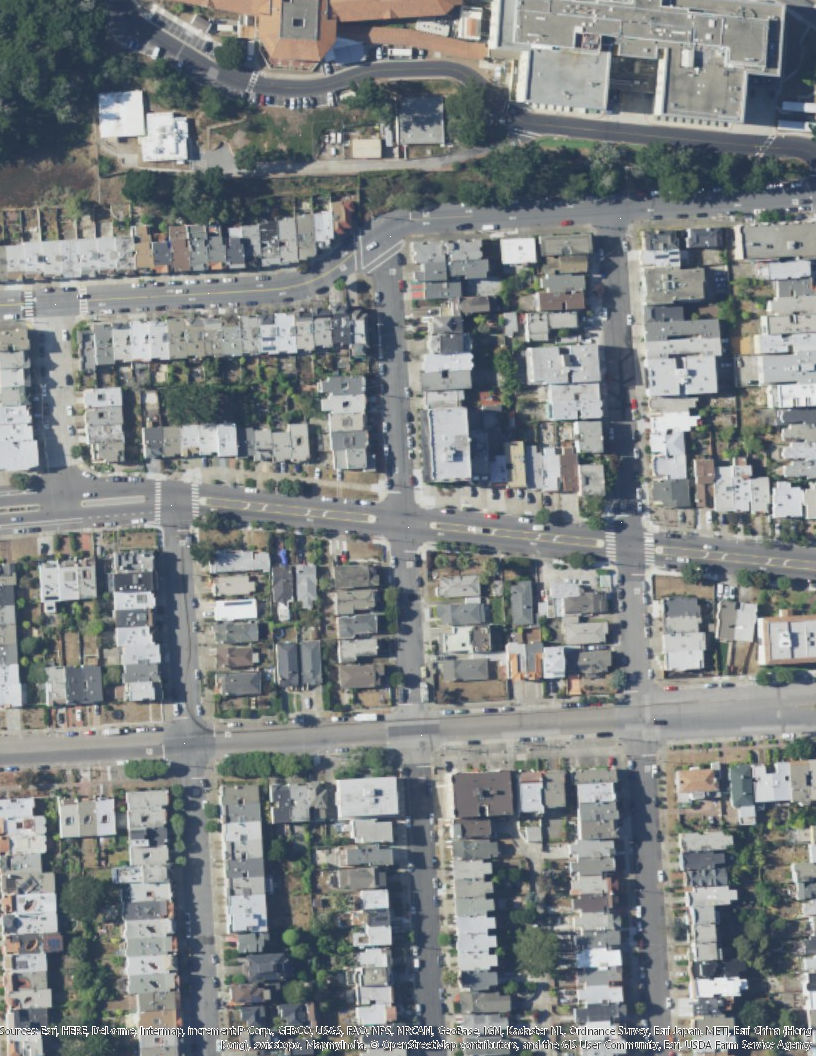zebracross: (150, 480, 164, 521), (642, 533, 656, 567), (604, 532, 618, 561), (189, 483, 199, 518)
